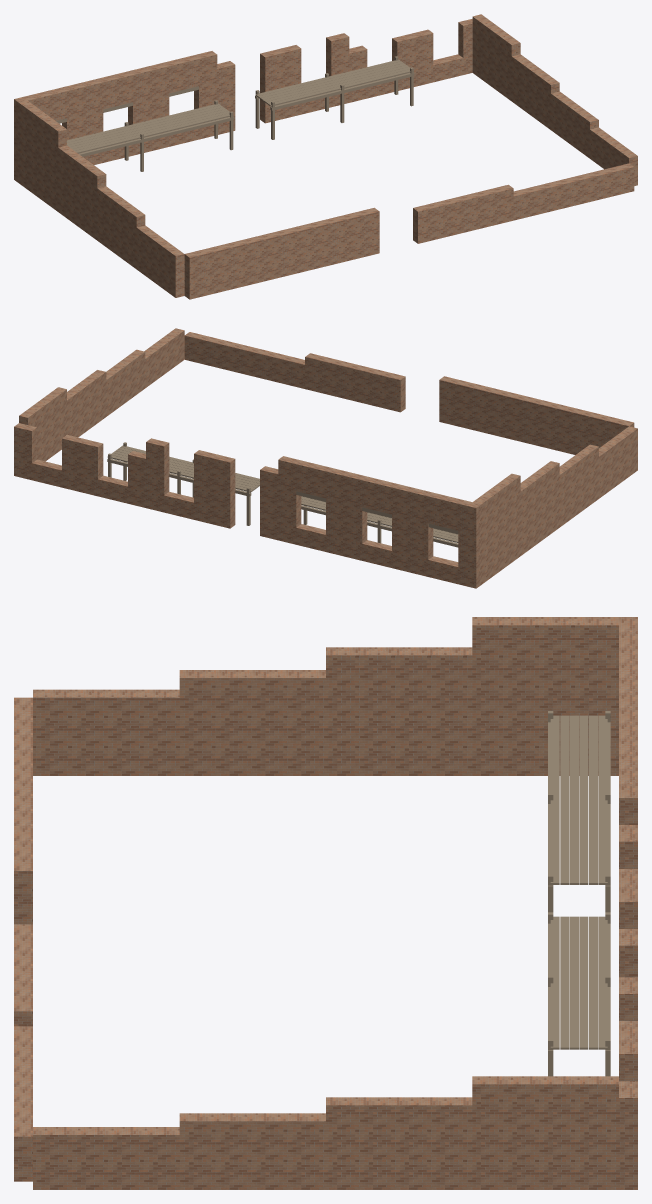
The model's file is lake_house_construction__shell_1835.glb.
The picture shows the model from 3 angles, top to bottom: view 1: azimuth 30°, elevation 25°; view 2: azimuth 150°, elevation 25°; view 3: azimuth 270°, elevation 25°; orthographic projection. The views are drawn at different scales.
Parts seen in each view (by area): view 1: lake_house_construction__shell_1835; view 2: lake_house_construction__shell_1835; view 3: lake_house_construction__shell_1835.
Boxes of the visible parts, bbox=[...] form: lake_house_construction__shell_1835: bbox=[14, 14, 637, 299]; lake_house_construction__shell_1835: bbox=[14, 328, 637, 588]; lake_house_construction__shell_1835: bbox=[14, 617, 637, 1189].
Bounding box in the file's own units: 24 × 4 × 15.
Materials: 2 (1 with a texture image).
